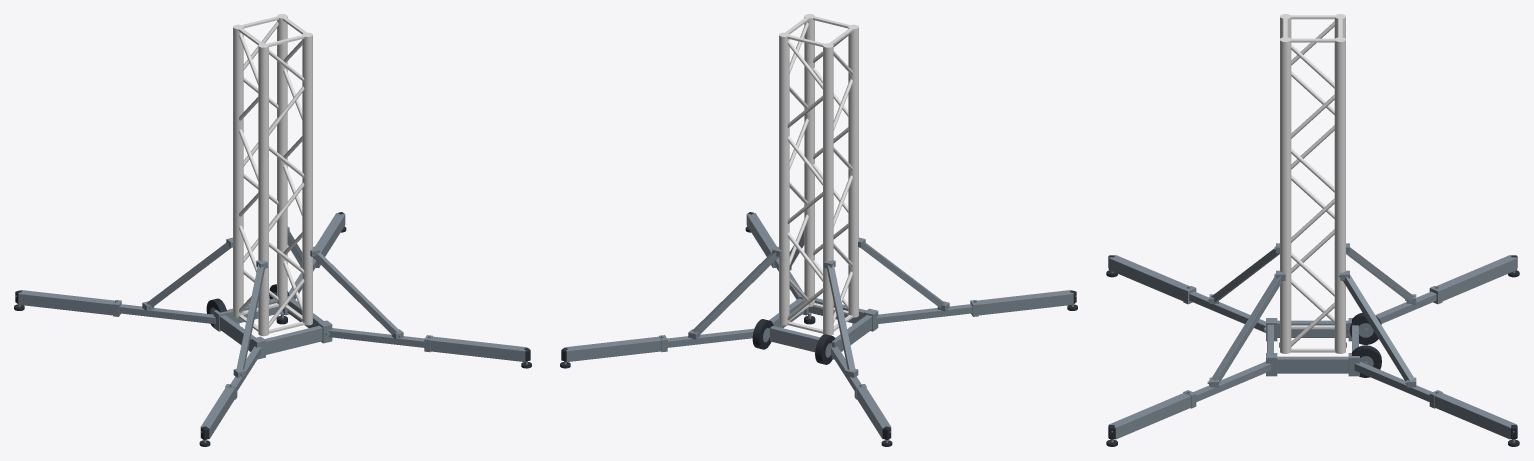
Rendered from litecTowerlift-tl3.glb.
3 renders of one model, left to right at view 1: azimuth 30°, elevation 25°; view 2: azimuth 150°, elevation 25°; view 3: azimuth 270°, elevation 25°, orthographic. The views are drawn at different scales.
Parts seen in each view (by area): view 1: Towerlift3; view 2: Towerlift3; view 3: Towerlift3.
Part boxes in pixels (left/top/right/bottom): Towerlift3: left=14, top=14, right=531, bottom=446; Towerlift3: left=560, top=14, right=1077, bottom=446; Towerlift3: left=1106, top=14, right=1519, bottom=446.
Bounding box in the file's own units: 1.8 × 1.6 × 1.8.
